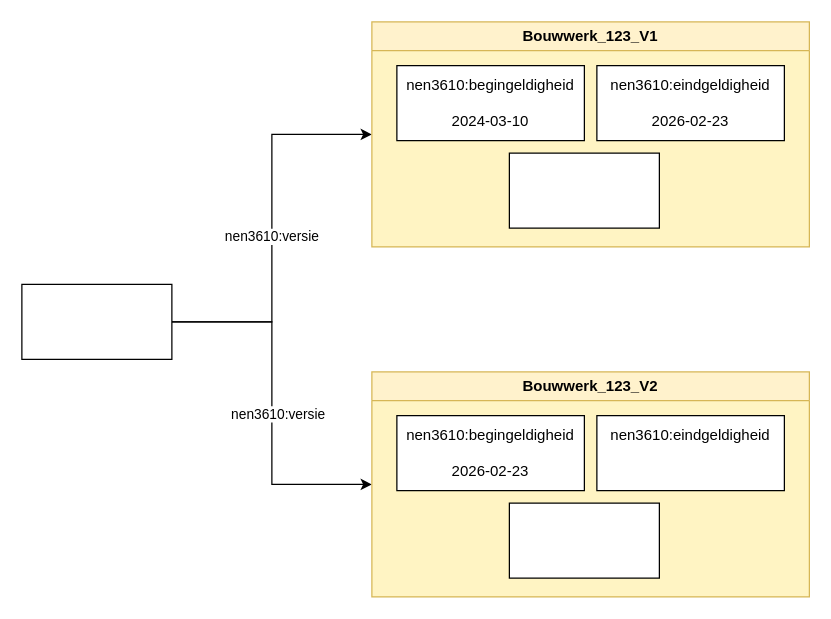
This 831x619 diagram has some shape labels left out. Each missing label, with the centre of its shape:
Bouwwerk_123: (96,321)
nen2660:hasState BuitenGebruik: (583,540)
nen2660:hasState InGebruik: (583,190)
